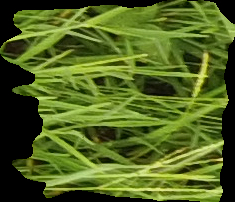grass: (1, 1, 233, 201)
